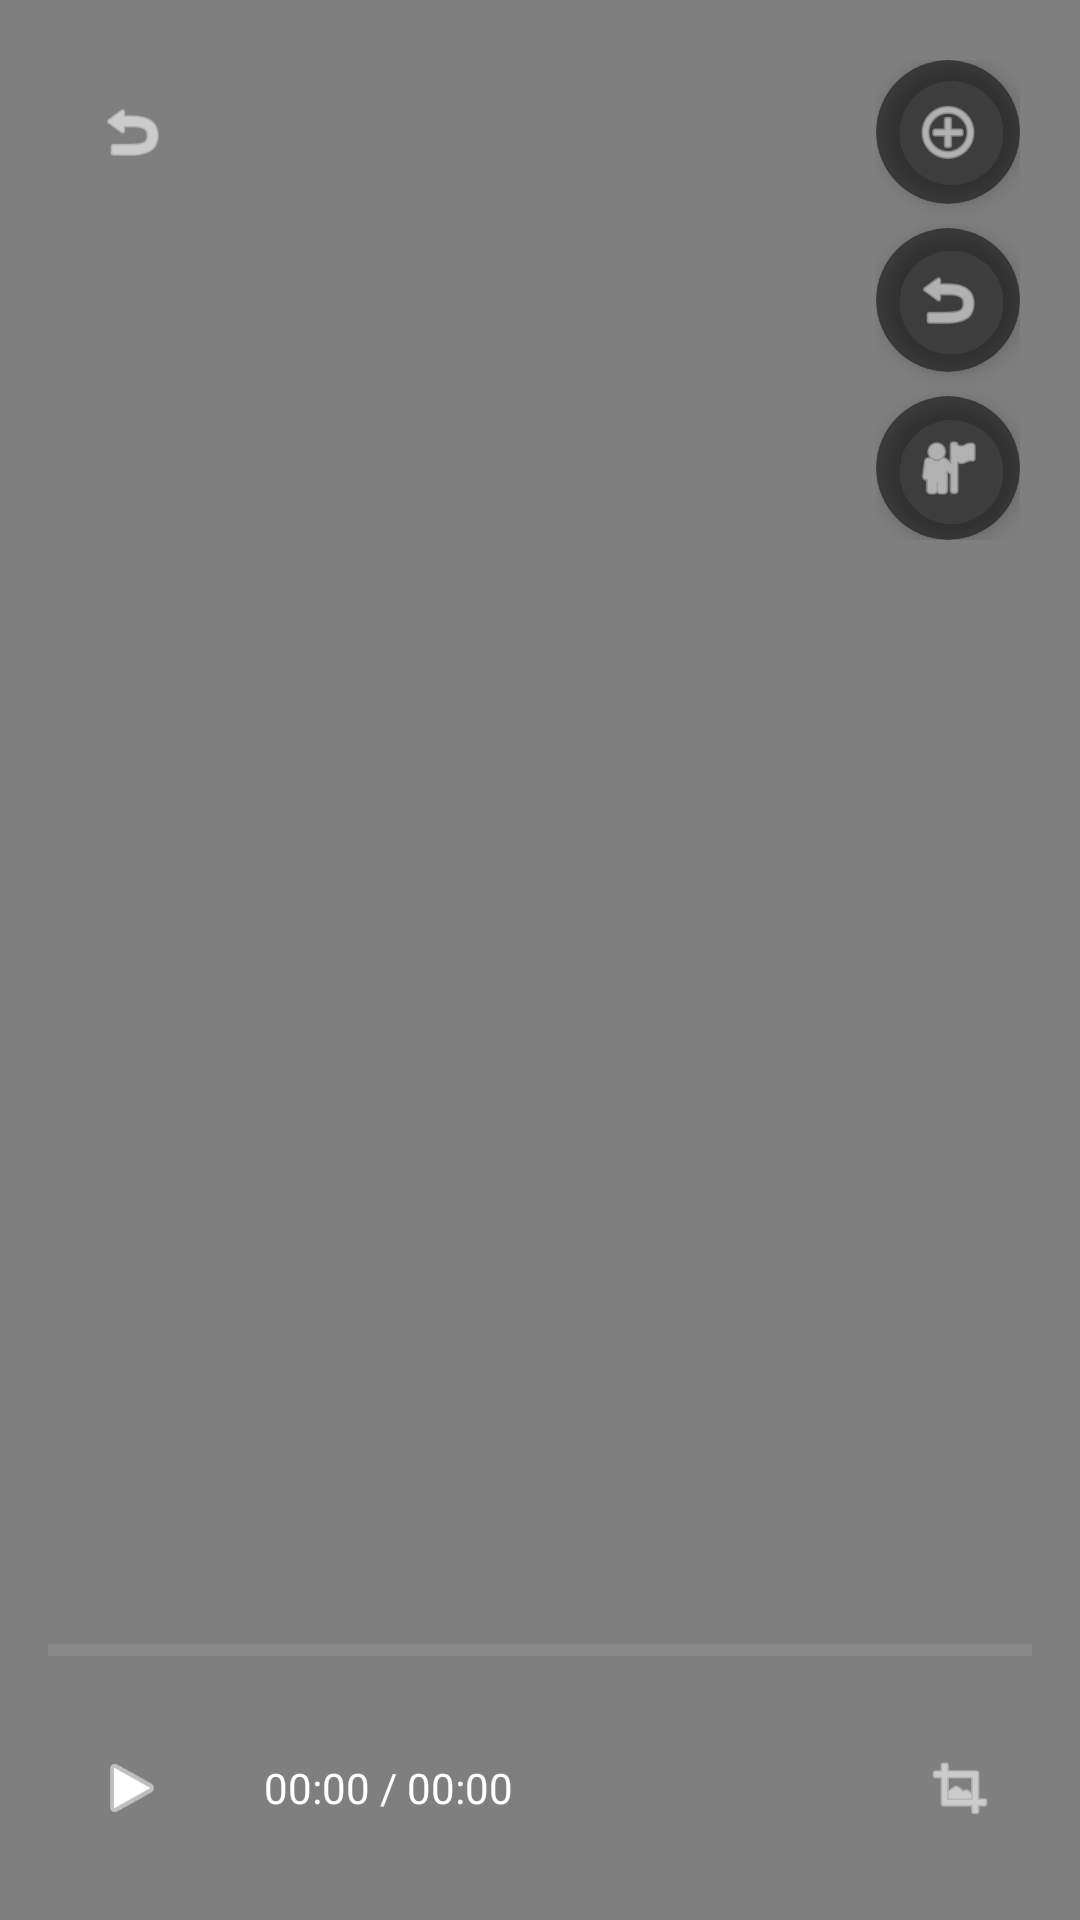

Icon click points for this 1080px x 1920px phone screenshot, format [x,y]:
add: [948,132]
crop: [960,1788]
myplaces: [948,468]
play: [132,1788]
revert: [133,132], [948,300]
